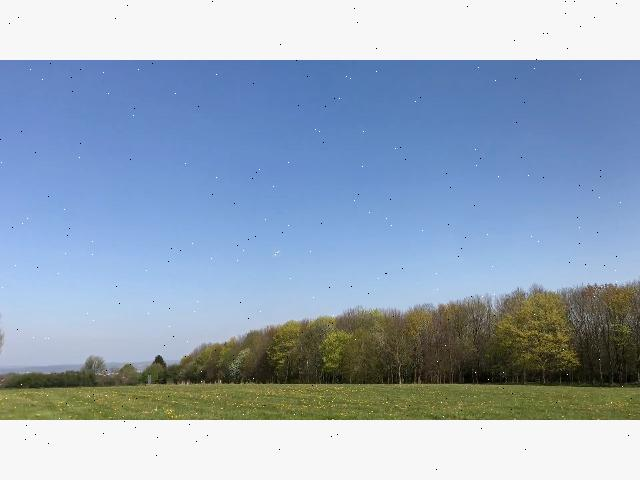Anti-Drone: (266, 245, 292, 267)
